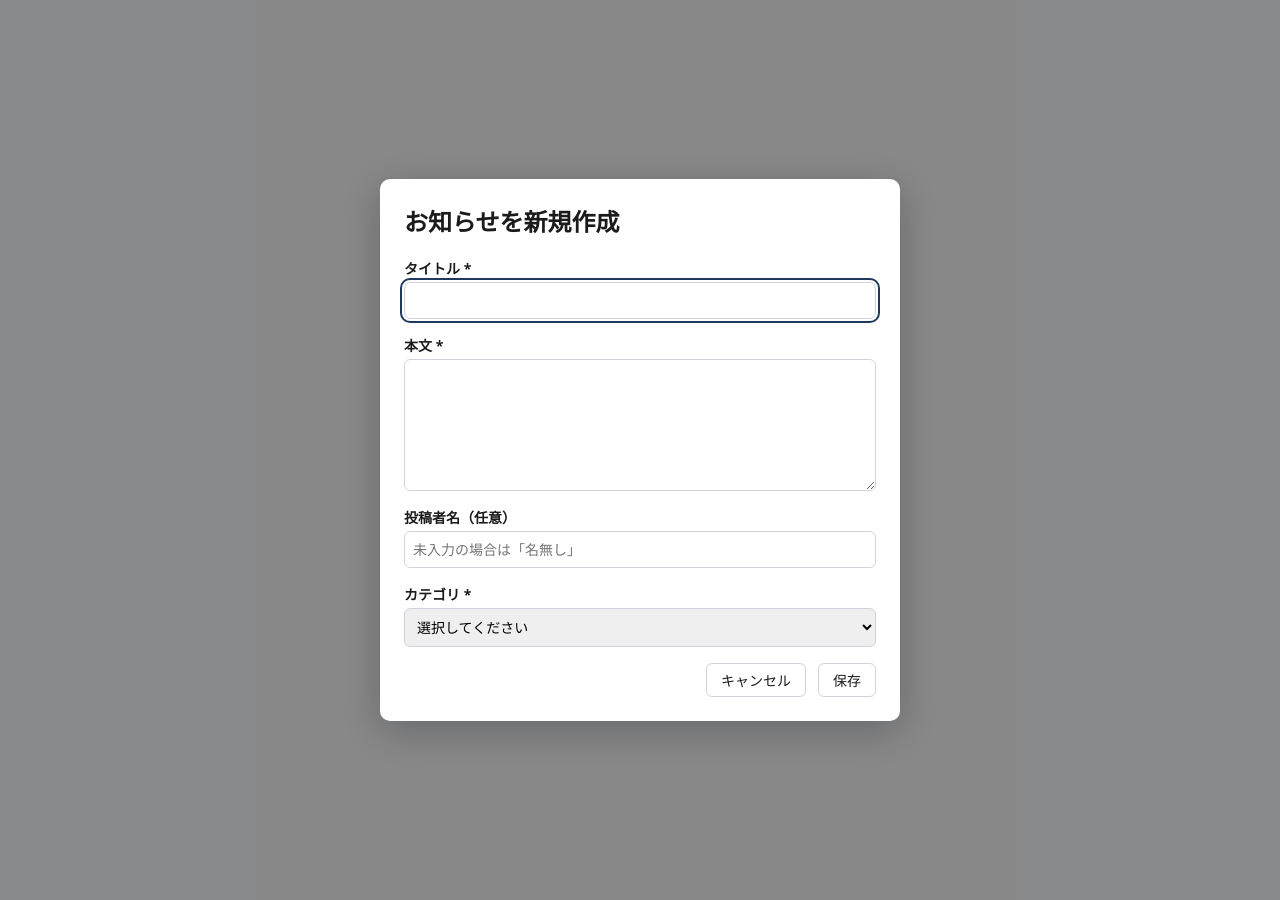
Test: AnnouncementFormModal › shows validation errors and does not submit when required fields are missing
The image size is (1280, 900).
Click the button with test id "form-submit-button": (847, 680) x1=818 y1=663 x2=876 y2=697
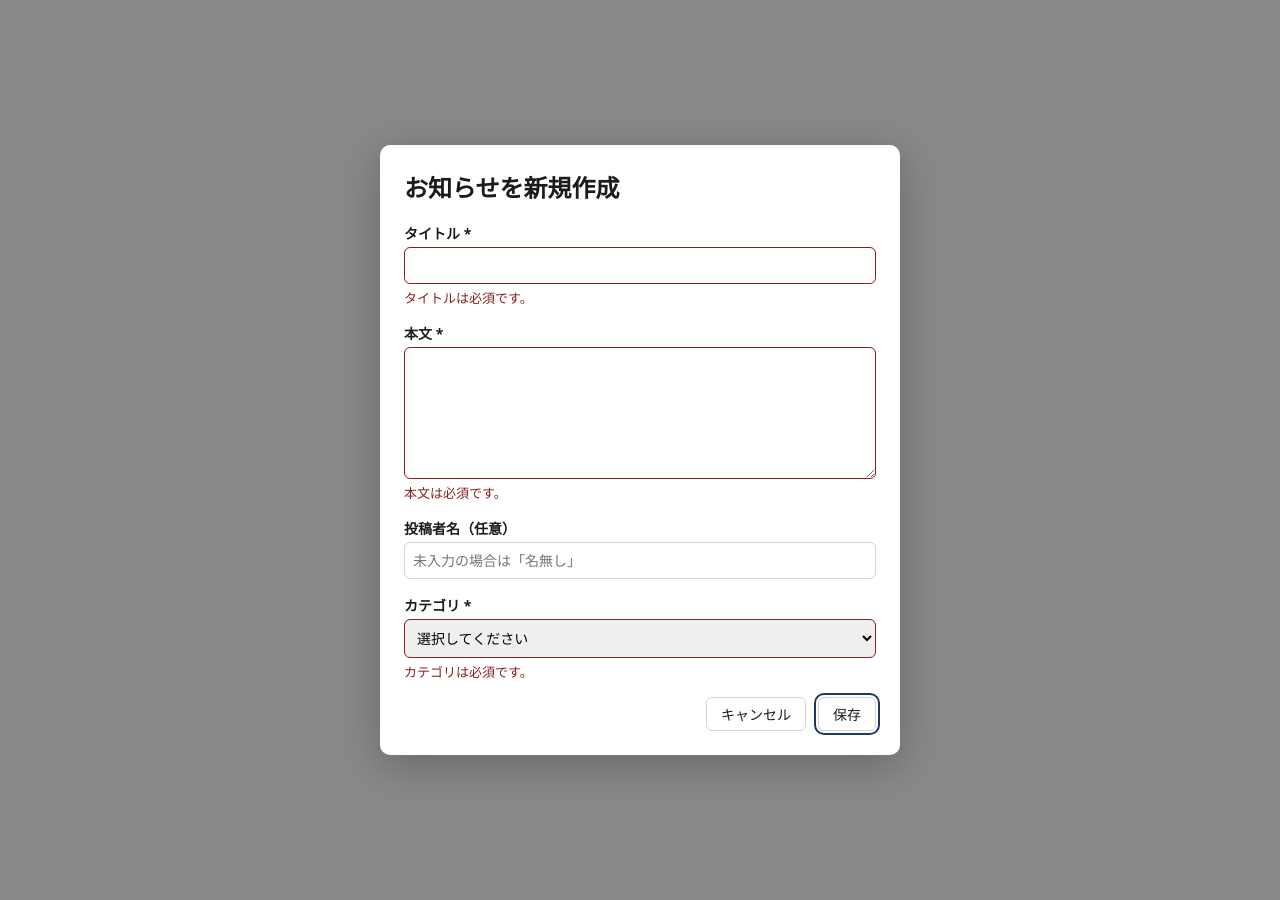
Now the text "タイトルは必須です。" is shown, box x1=404 y1=290 x2=533 y2=308
Now the text "本文は必須です。" is shown, box x1=404 y1=484 x2=507 y2=502
